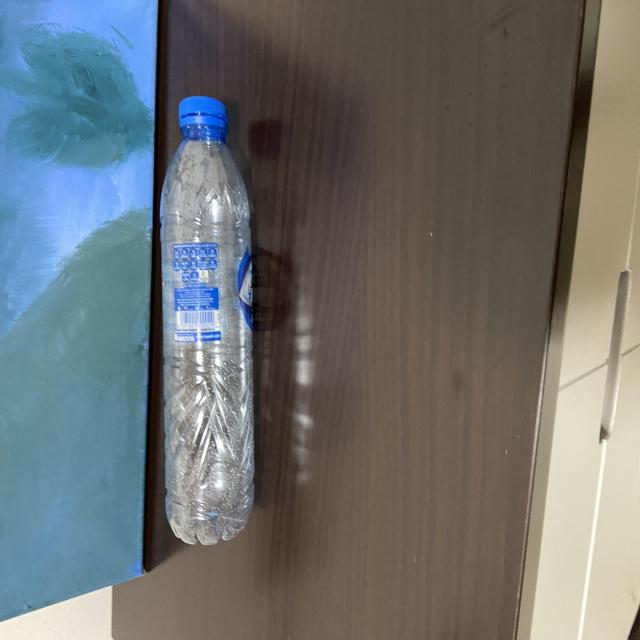plastic: (158, 92, 257, 546)
